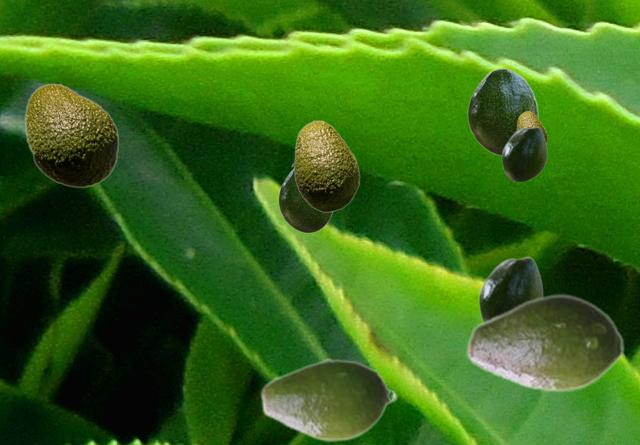avocado: (466, 293, 624, 392), (259, 357, 397, 442), (24, 83, 118, 187), (291, 120, 359, 211), (467, 68, 537, 155), (478, 256, 542, 320), (278, 169, 333, 232), (501, 126, 546, 181), (516, 111, 546, 140)
